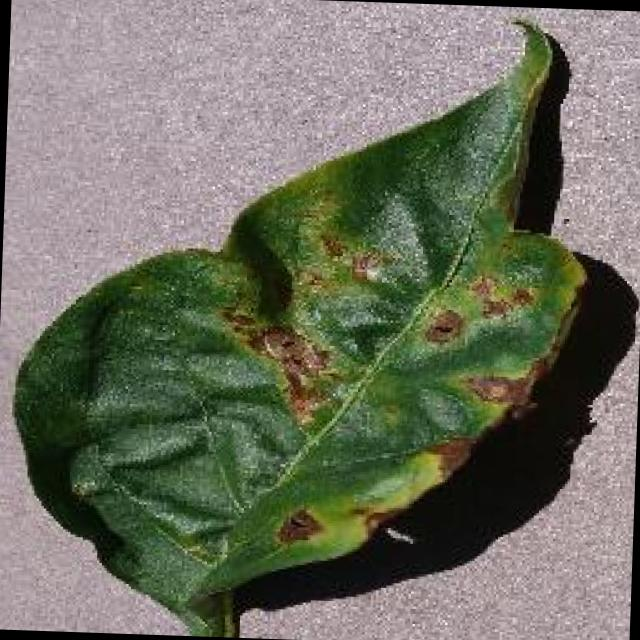Chilli_Bacterial_Spot: (0, 0, 601, 640), (204, 204, 569, 569), (414, 266, 539, 353), (246, 317, 342, 423), (311, 227, 398, 290), (462, 268, 540, 326), (270, 504, 324, 550), (459, 370, 518, 410), (420, 304, 466, 348), (344, 246, 388, 287), (314, 230, 348, 264), (475, 293, 511, 324), (464, 270, 499, 301), (506, 282, 536, 310)
